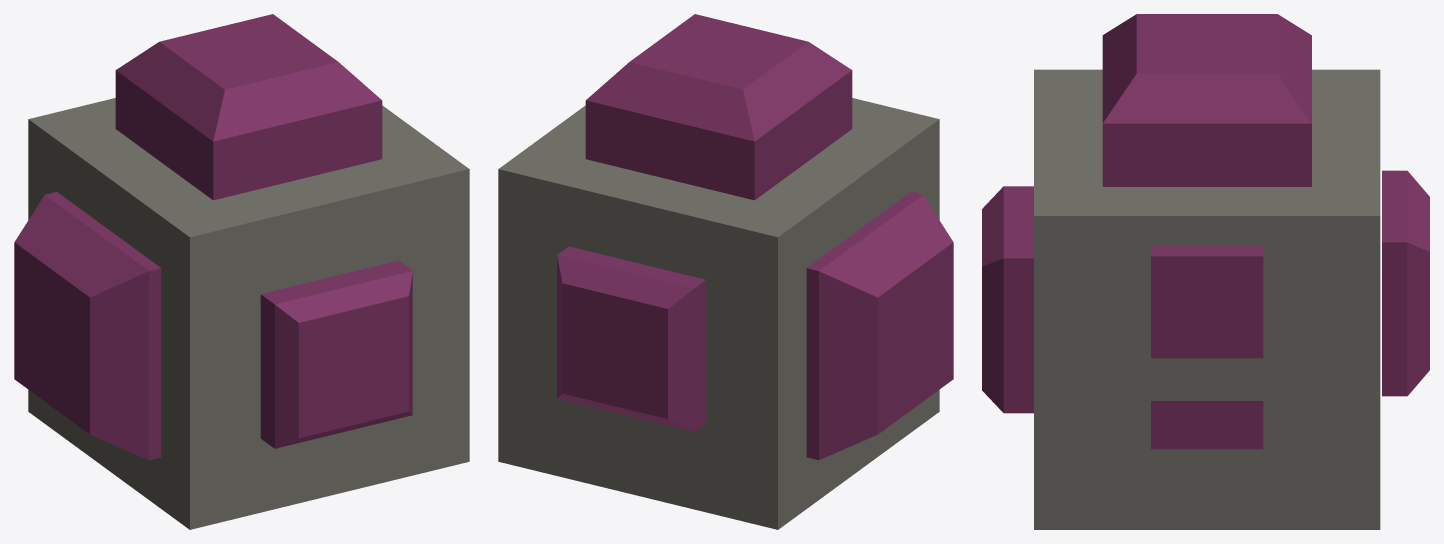
Rendered from BigChan.fbx.
3 renders of one model, left to right at view 1: azimuth 30°, elevation 25°; view 2: azimuth 150°, elevation 25°; view 3: azimuth 270°, elevation 25°, orthographic. The views are drawn at different scales.
Parts seen in each view (by area): view 1: Cube.054; view 2: Cube.054; view 3: Cube.054.
Boxes of the visible parts, box(x1,y1,x2,y2) form: Cube.054: box(14, 14, 469, 529); Cube.054: box(498, 14, 953, 529); Cube.054: box(982, 14, 1429, 529).
Size of the model in its own units: 1.13 by 1.16 by 1.14.
